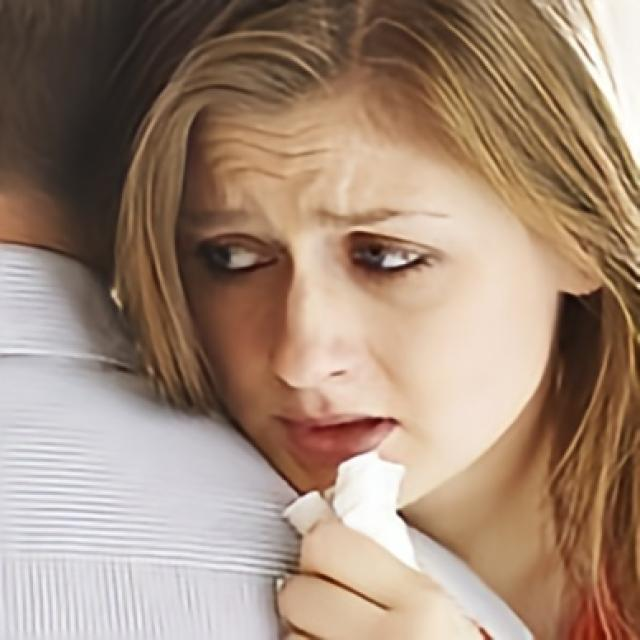disgust: (175, 64, 558, 512)
